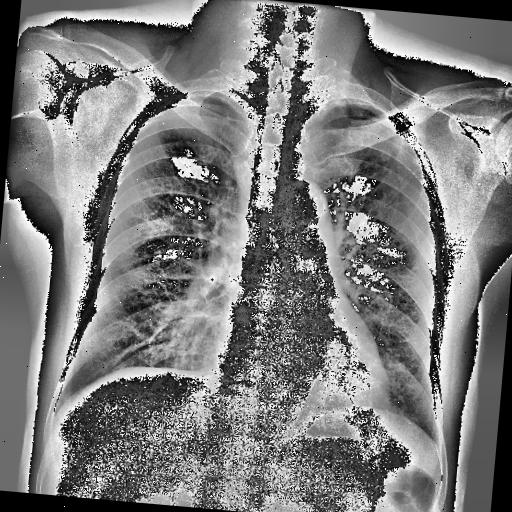0- Aortic enlargement: (274, 176, 340, 256), (271, 176, 333, 239), (274, 176, 332, 236)
11- Pleural thickening: (304, 92, 396, 128), (315, 90, 394, 122), (165, 86, 248, 116), (170, 86, 248, 115)
2- Calcification: (302, 192, 328, 226)
